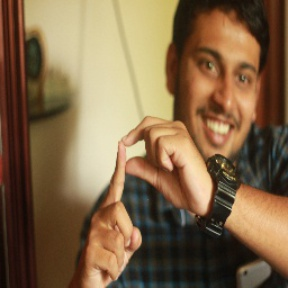P: (77, 112, 201, 283)
